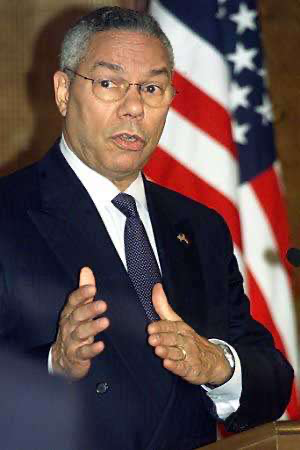Face: (72, 49, 181, 171)
